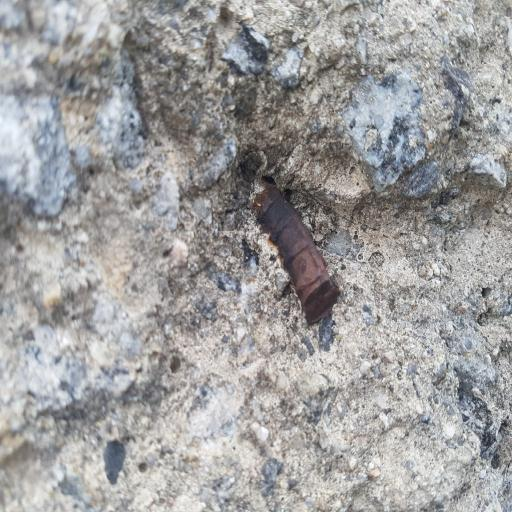exposed_rebar: (255, 181, 337, 325)
